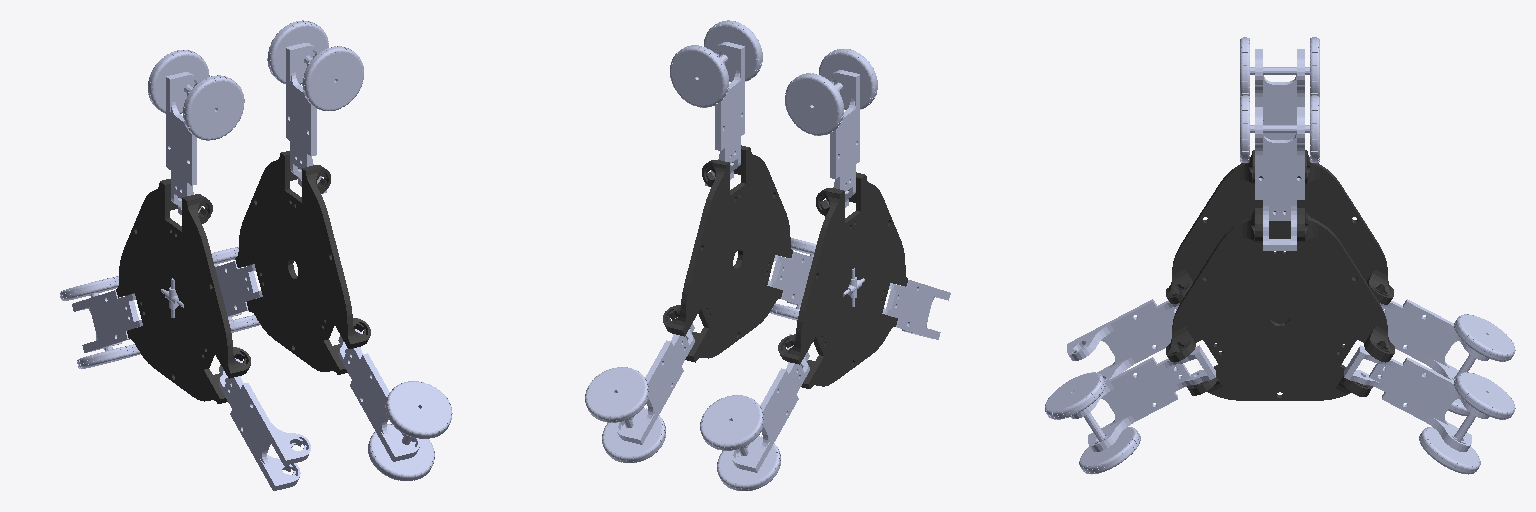
--- Render facts (derived) ---
The picture shows the robot from 3 angles, left to right: view 1: azimuth 30°, elevation 25°; view 2: azimuth 150°, elevation 25°; view 3: azimuth 270°, elevation 25°; orthographic projection.
Model segl_ver2 with 19 links and 18 joints (8 revolute, 6 continuous, 2 prismatic, 2 fixed), rooted at base_link, posed every joint at zero.
Links seen in each view (by area): view 1: base2, base_link, w6, w3, w4, sus1, sus4, sus6, sus3, sus2, sus5, w2 (+1 smaller); view 2: base2, base_link, w6, w3, w2, w5, sus2, sus5, sus6, sus3, sus1, sus4 (+1 smaller); view 3: base2, base_link, sus4, sus5, sus6, sus1, sus2, w5, w4, sus3, w2, w6 (+1 smaller).
Link boxes in pixels (left/top/right/bottom): base2: left=235, top=151, right=370, bottom=374; base_link: left=116, top=179, right=250, bottom=403; w6: left=267, top=20, right=363, bottom=110; w3: left=148, top=50, right=244, bottom=140; w4: left=368, top=381, right=452, bottom=480; sus1: left=219, top=347, right=310, bottom=490; sus4: left=338, top=318, right=419, bottom=461; sus6: left=286, top=43, right=326, bottom=193; sus3: left=166, top=72, right=201, bottom=214; sus2: left=72, top=290, right=142, bottom=352; sus5: left=215, top=261, right=262, bottom=316; w2: left=60, top=276, right=140, bottom=368; base2: left=663, top=145, right=792, bottom=362; base_link: left=778, top=172, right=907, bottom=388; w6: left=670, top=20, right=762, bottom=107; w3: left=785, top=49, right=877, bottom=135; w2: left=700, top=395, right=780, bottom=490; w5: left=585, top=367, right=665, bottom=462; sus2: left=731, top=334, right=809, bottom=472; sus5: left=616, top=317, right=694, bottom=444; sus6: left=705, top=42, right=744, bottom=186; sus3: left=820, top=70, right=859, bottom=213; sus1: left=882, top=280, right=950, bottom=339; sus4: left=767, top=251, right=812, bottom=305; base2: left=1166, top=208, right=1394, bottom=400; base_link: left=1166, top=150, right=1393, bottom=323; sus4: left=1071, top=345, right=1215, bottom=451; sus5: left=1344, top=345, right=1488, bottom=451; sus6: left=1255, top=107, right=1304, bottom=250; sus1: left=1067, top=299, right=1179, bottom=380; sus2: left=1380, top=299, right=1488, bottom=380; w5: left=1419, top=372, right=1515, bottom=474; w4: left=1045, top=372, right=1140, bottom=474; sus3: left=1255, top=49, right=1304, bottom=139; w2: left=1423, top=314, right=1515, bottom=415; w6: left=1240, top=95, right=1319, bottom=162.
Size in the robot's own frame: 0.097 by 0.2231 by 0.1936 metres.
Meshes: 19 distinct files referenced, 14 mesh visuals loaded (14 binary STL); not drawn: 5 (reference not matched to a file when rendering).

URDF robot description (segl_ver2):
<?xml version="1.0" encoding="utf-8"?>
<!-- This URDF was automatically created by SolidWorks to URDF Exporter! Originally created by Stephen Brawner ([email redacted]) 
     Commit Version: 1.6.0-1-g15f4949  Build Version: 1.6.7594.29634
     For more information, please see http://wiki.ros.org/sw_urdf_exporter -->
<robot
  name="segl_ver2">
  <link
    name="base_link">
    <inertial>
      <origin
        xyz="0.0107631885751334 -0.196706606649359 0.125751388465178"
        rpy="0 0 0" />
      <mass
        value="0.0292481653022373" />
      <inertia
        ixx="3.88747734808684E-05"
        ixy="-3.06596509862478E-09"
        ixz="-5.9800656489327E-08"
        iyy="1.98637946417116E-05"
        iyz="-7.6462751095904E-10"
        izz="1.93056895699406E-05" />
    </inertial>
    <visual>
      <origin
        xyz="0 0 0"
        rpy="0 0 0" />
      <geometry>
        <mesh
          filename="package://segl_ver2/meshes/base_link.STL" />
      </geometry>
      <material
        name="">
        <color
          rgba="0.298039215686275 0.298039215686275 0.298039215686275 1" />
      </material>
    </visual>
    <collision>
      <origin
        xyz="0 0 0"
        rpy="0 0 0" />
      <geometry>
        <mesh
          filename="package://segl_ver2/meshes/base_link.STL" />
      </geometry>
    </collision>
  </link>
  <link
    name="sus1">
    <inertial>
      <origin
        xyz="0.0245281392565478 -0.00579743460623024 -0.00799999809102761"
        rpy="0 0 0" />
      <mass
        value="0.00484464615393237" />
      <inertia
        ixx="3.44953495510738E-07"
        ixy="5.10613042897034E-08"
        ixz="1.27802151276123E-14"
        iyy="2.31225028349891E-06"
        iyz="2.19478513827084E-14"
        izz="2.08649864683354E-06" />
    </inertial>
    <visual>
      <origin
        xyz="0 0 0"
        rpy="0 0 0" />
      <geometry>
        <mesh
          filename="package://segl_ver2/meshes/sus1.STL" />
      </geometry>
      <material
        name="">
        <color
          rgba="0.792156862745098 0.819607843137255 0.933333333333333 1" />
      </material>
    </visual>
    <collision>
      <origin
        xyz="0 0 0"
        rpy="0 0 0" />
      <geometry>
        <mesh
          filename="package://segl_ver2/meshes/sus1.STL" />
      </geometry>
    </collision>
  </link>
  <joint
    name="sus1r"
    type="revolute">
    <origin
      xyz="0.0209492573018266 -0.281484925581457 0.067161403096656"
      rpy="3.14159265358979 -0.523598775598299 1.57079632679491" />
    <parent
      link="base_link" />
    <child
      link="sus1" />
    <axis
      xyz="0 0 -1" />
    <limit
      lower="0"
      upper="0"
      effort="0"
      velocity="0" />
  </joint>
  <link
    name="w1">
    <inertial>
      <origin
        xyz="5.22216991871716E-12 0.0109999999662131 1.83967563405218E-11"
        rpy="0 0 0" />
      <mass
        value="0.00802564595067572" />
      <inertia
        ixx="2.63042675367951E-06"
        ixy="-7.55275615083696E-16"
        ixz="6.57318531134782E-16"
        iyy="9.68771865572928E-07"
        iyz="-1.40328686878471E-15"
        izz="2.63042674934207E-06" />
    </inertial>
    <visual>
      <origin
        xyz="0 0 0"
        rpy="0 0 0" />
      <geometry>
        <mesh
          filename="package://segl_ver2/meshes/w1.STL" />
      </geometry>
      <material
        name="">
        <color
          rgba="0.792156862745098 0.819607843137255 0.933333333333333 1" />
      </material>
    </visual>
    <collision>
      <origin
        xyz="0 0 0"
        rpy="0 0 0" />
      <geometry>
        <mesh
          filename="package://segl_ver2/meshes/w1.STL" />
      </geometry>
    </collision>
  </link>
  <joint
    name="w1c"
    type="continuous">
    <origin
      xyz="0 0 -0.019"
      rpy="1.5707963267949 0 -1.09932300692303" />
    <parent
      link="sus1" />
    <child
      link="w1" />
    <axis
      xyz="0 1 0" />
  </joint>
  <link
    name="sus2">
    <inertial>
      <origin
        xyz="0.0245281388862843 -0.00579743458596982 -0.00799999408218524"
        rpy="0 0 0" />
      <mass
        value="0.00484464622012381" />
      <inertia
        ixx="3.44953504540437E-07"
        ixy="5.10613036903035E-08"
        ixz="1.55592500717671E-13"
        iyy="2.31225031988856E-06"
        iyz="4.30376878804778E-14"
        izz="2.0864986737292E-06" />
    </inertial>
    <visual>
      <origin
        xyz="0 0 0"
        rpy="0 0 0" />
      <geometry>
        <mesh
          filename="package://segl_ver2/meshes/sus2.STL" />
      </geometry>
      <material
        name="">
        <color
          rgba="0.792156862745098 0.819607843137255 0.933333333333333 1" />
      </material>
    </visual>
    <collision>
      <origin
        xyz="0 0 0"
        rpy="0 0 0" />
      <geometry>
        <mesh
          filename="package://segl_ver2/meshes/sus2.STL" />
      </geometry>
    </collision>
  </link>
  <joint
    name="sus2r"
    type="revolute">
    <origin
      xyz="0.0209492573018259 -0.103962409966498 0.0810178095573729"
      rpy="0 -0.523598775598294 -1.5707963267949" />
    <parent
      link="base_link" />
    <child
      link="sus2" />
    <axis
      xyz="0 0 -1" />
    <limit
      lower="0"
      upper="0"
      effort="0"
      velocity="0" />
  </joint>
  <link
    name="w2">
    <inertial>
      <origin
        xyz="5.21314935664208E-12 0.0109999999660882 1.84374460143744E-11"
        rpy="0 0 0" />
      <mass
        value="0.00802564595064063" />
      <inertia
        ixx="2.63042675366783E-06"
        ixy="-7.55284416285413E-16"
        ixz="6.57278244130228E-16"
        iyy="9.6877186556785E-07"
        iyz="-1.39968944044838E-15"
        izz="2.63042674933548E-06" />
    </inertial>
    <visual>
      <origin
        xyz="0 0 0"
        rpy="0 0 0" />
      <geometry>
        <mesh
          filename="package://segl_ver2/meshes/w2.STL" />
      </geometry>
      <material
        name="">
        <color
          rgba="0.792156862745098 0.819607843137255 0.933333333333333 1" />
      </material>
    </visual>
    <collision>
      <origin
        xyz="0 0 0"
        rpy="0 0 0" />
      <geometry>
        <mesh
          filename="package://segl_ver2/meshes/w2.STL" />
      </geometry>
    </collision>
  </link>
  <joint
    name="w2c"
    type="continuous">
    <origin
      xyz="0 0 -0.019"
      rpy="1.5708 0 -1.0993" />
    <parent
      link="sus2" />
    <child
      link="w2" />
    <axis
      xyz="0 1 0" />
  </joint>
  <link
    name="sus3">
    <inertial>
      <origin
        xyz="0.0245281427339185 -0.00579743476204341 -0.00799999583699243"
        rpy="0 0 0" />
      <mass
        value="0.00484464531506038" />
      <inertia
        ixx="3.44953306450567E-07"
        ixy="5.10613156648366E-08"
        ixz="7.85719483021613E-14"
        iyy="2.31224993634185E-06"
        iyz="3.48701370311509E-14"
        izz="2.08649849059194E-06" />
    </inertial>
    <visual>
      <origin
        xyz="0 0 0"
        rpy="0 0 0" />
      <geometry>
        <mesh
          filename="package://segl_ver2/meshes/sus3.STL" />
      </geometry>
      <material
        name="">
        <color
          rgba="0.792156862745098 0.819607843137255 0.933333333333333 1" />
      </material>
    </visual>
    <collision>
      <origin
        xyz="0 0 0"
        rpy="0 0 0" />
      <geometry>
        <mesh
          filename="package://segl_ver2/meshes/sus3.STL" />
      </geometry>
    </collision>
  </link>
  <joint
    name="sus3r"
    type="revolute">
    <origin
      xyz="0.0209492573018252 -0.20472366777412 0.227828614593289"
      rpy="1.5707963267949 1.5707963267949 0" />
    <parent
      link="base_link" />
    <child
      link="sus3" />
    <axis
      xyz="0 0 1" />
    <limit
      lower="0"
      upper="0"
      effort="0"
      velocity="0" />
  </joint>
  <link
    name="w3">
    <inertial>
      <origin
        xyz="5.21756249316496E-12 0.0109999999661513 1.84169901551456E-11"
        rpy="0 0 0" />
      <mass
        value="0.00802564595065764" />
      <inertia
        ixx="2.63042675367367E-06"
        ixy="-7.55267407101903E-16"
        ixz="6.57297037673746E-16"
        iyy="9.6877186557038E-07"
        iyz="-1.40145231324626E-15"
        izz="2.63042674933879E-06" />
    </inertial>
    <visual>
      <origin
        xyz="0 0 0"
        rpy="0 0 0" />
      <geometry>
        <mesh
          filename="package://segl_ver2/meshes/w3.STL" />
      </geometry>
      <material
        name="">
        <color
          rgba="0.792156862745098 0.819607843137255 0.933333333333333 1" />
      </material>
    </visual>
    <collision>
      <origin
        xyz="0 0 0"
        rpy="0 0 0" />
      <geometry>
        <mesh
          filename="package://segl_ver2/meshes/w3.STL" />
      </geometry>
    </collision>
  </link>
  <joint
    name="w3c"
    type="continuous">
    <origin
      xyz="0 0 -0.019"
      rpy="1.5707963267949 0 -1.09932300692303" />
    <parent
      link="sus3" />
    <child
      link="w3" />
    <axis
      xyz="0 1 0" />
  </joint>
  <link
    name="con1">
    <inertial>
      <origin
        xyz="0.0150000000000001 -8.32667268468867E-17 -1.52655665885959E-16"
        rpy="0 0 0" />
      <mass
        value="0.00235619449019234" />
      <inertia
        ixx="2.94524311274043E-08"
        ixy="4.86347831101101E-22"
        ixz="1.21907854063494E-21"
        iyy="1.91440802328128E-07"
        iyz="0"
        izz="1.91440802328128E-07" />
    </inertial>
    <visual>
      <origin
        xyz="0 0 0"
        rpy="0 0 0" />
      <geometry>
        <mesh
          filename="package://segl_ver2/meshes/con1.STL" />
      </geometry>
      <material
        name="">
        <color
          rgba="0.792156862745098 0.819607843137255 0.933333333333333 1" />
      </material>
    </visual>
    <collision>
      <origin
        xyz="0 0 0"
        rpy="0 0 0" />
      <geometry>
        <mesh
          filename="package://segl_ver2/meshes/con1.STL" />
      </geometry>
    </collision>
  </link>
  <joint
    name="con1f"
    type="fixed">
    <origin
      xyz="0.0116192573018258 -0.196723667774025 0.125335942415772"
      rpy="3.05723846361397 0 0" />
    <parent
      link="base_link" />
    <child
      link="con1" />
    <axis
      xyz="0 0 0" />
  </joint>
  <link
    name="con2">
    <inertial>
      <origin
        xyz="5.55111512312578E-17 0.0511300493614309 -1.66533453693773E-16"
        rpy="0 0 0" />
      <mass
        value="0.00279336263712055" />
      <inertia
        ixx="3.47148573143988E-07"
        ixy="-3.22117119311169E-22"
        ixz="6.2659192053309E-24"
        iyy="3.99316347503688E-08"
        iyz="1.06362574145513E-21"
        izz="3.49420107139763E-07" />
    </inertial>
    <visual>
      <origin
        xyz="0 0 0"
        rpy="0 0 0" />
      <geometry>
        <mesh
          filename="package://segl_ver2/meshes/con2.STL" />
      </geometry>
      <material
        name="">
        <color
          rgba="0.792156862745098 0.819607843137255 0.933333333333333 1" />
      </material>
    </visual>
    <collision>
      <origin
        xyz="0 0 0"
        rpy="0 0 0" />
      <geometry>
        <mesh
          filename="package://segl_ver2/meshes/con2.STL" />
      </geometry>
    </collision>
  </link>
  <joint
    name="con2p"
    type="prismatic">
    <origin
      xyz="-0.003 0 0"
      rpy="0 -1.4864 -1.5708" />
    <parent
      link="con1" />
    <child
      link="con2" />
    <axis
      xyz="0 -1 0" />
    <limit
      lower="0"
      upper="0"
      effort="0"
      velocity="0" />
  </joint>
  <link
    name="uni">
    <inertial>
      <origin
        xyz="2.22044604925031E-16 1.92840421409102E-09 1.92840418633544E-09"
        rpy="0 0 0" />
      <mass
        value="0.000271492148155946" />
      <inertia
        ixx="5.93557661395575E-09"
        ixy="4.47220671760484E-15"
        ixz="-4.47220671817201E-15"
        iyy="3.20070578284846E-09"
        iyz="1.00860378857642E-21"
        izz="3.20070578284845E-09" />
    </inertial>
    <visual>
      <origin
        xyz="0 0 0"
        rpy="0 0 0" />
      <geometry>
        <mesh
          filename="package://segl_ver2/meshes/uni.STL" />
      </geometry>
      <material
        name="">
        <color
          rgba="0.792156862745098 0.819607843137255 0.933333333333333 1" />
      </material>
    </visual>
    <collision>
      <origin
        xyz="0 0 0"
        rpy="0 0 0" />
      <geometry>
        <mesh
          filename="package://segl_ver2/meshes/uni.STL" />
      </geometry>
    </collision>
  </link>
  <joint
    name="unir"
    type="revolute">
    <origin
      xyz="0 0 0"
      rpy="0 0 1.5708" />
    <parent
      link="con2" />
    <child
      link="uni" />
    <axis
      xyz="0 -1 0" />
    <limit
      lower="0"
      upper="0"
      effort="0"
      velocity="0" />
  </joint>
  <link
    name="con3">
    <inertial>
      <origin
        xyz="0.0168699506385675 -4.71844785465692E-16 1.66533453693773E-16"
        rpy="0 0 0" />
      <mass
        value="0.00279336263712055" />
      <inertia
        ixx="3.99316347503688E-08"
        ixy="-2.21473370213145E-21"
        ixz="9.90677928511773E-22"
        iyy="3.49420107139762E-07"
        iyz="2.19567825042962E-23"
        izz="3.47148573143987E-07" />
    </inertial>
    <visual>
      <origin
        xyz="0 0 0"
        rpy="0 0 0" />
      <geometry>
        <mesh
          filename="package://segl_ver2/meshes/con3.STL" />
      </geometry>
      <material
        name="">
        <color
          rgba="0.792156862745098 0.819607843137255 0.933333333333333 1" />
      </material>
    </visual>
    <collision>
      <origin
        xyz="0 0 0"
        rpy="0 0 0" />
      <geometry>
        <mesh
          filename="package://segl_ver2/meshes/con3.STL" />
      </geometry>
    </collision>
  </link>
  <joint
    name="con3r"
    type="revolute">
    <origin
      xyz="0 0 0"
      rpy="0 0 0" />
    <parent
      link="uni" />
    <child
      link="con3" />
    <axis
      xyz="0 0 -1" />
    <limit
      lower="0"
      upper="0"
      effort="0"
      velocity="0" />
  </joint>
  <link
    name="con4">
    <inertial>
      <origin
        xyz="-0.0150000000000001 -7.49400541621981E-16 -3.33066907387547E-16"
        rpy="0 0 0" />
      <mass
        value="0.00235619449019234" />
      <inertia
        ixx="2.94524311274043E-08"
        ixy="-1.15743391516541E-21"
        ixz="-6.82310798372852E-22"
        iyy="1.91440802328128E-07"
        iyz="6.61744490042422E-24"
        izz="1.91440802328128E-07" />
    </inertial>
    <visual>
      <origin
        xyz="0 0 0"
        rpy="0 0 0" />
      <geometry>
        <mesh
          filename="package://segl_ver2/meshes/con4.STL" />
      </geometry>
      <material
        name="">
        <color
          rgba="0.792156862745098 0.819607843137255 0.933333333333333 1" />
      </material>
    </visual>
    <collision>
      <origin
        xyz="0 0 0"
        rpy="0 0 0" />
      <geometry>
        <mesh
          filename="package://segl_ver2/meshes/con4.STL" />
      </geometry>
    </collision>
  </link>
  <joint
    name="con4p"
    type="prismatic">
    <origin
      xyz="0.0650000000000009 0 0"
      rpy="-0.98269663008103 0 0" />
    <parent
      link="con3" />
    <child
      link="con4" />
    <axis
      xyz="-1 0 0" />
    <limit
      lower="0"
      upper="0"
      effort="0"
      velocity="0" />
  </joint>
  <link
    name="base2">
    <inertial>
      <origin
        xyz="-1.70019768646057E-05 0.00214393347748168 0.000415436461369545"
        rpy="0 0 0" />
      <mass
        value="0.0292481701284546" />
      <inertia
        ixx="1.98637964228682E-05"
        ixy="3.05143639764163E-09"
        ixz="8.03293928394738E-10"
        iyy="3.88747924136026E-05"
        iyz="-5.98005959044393E-08"
        izz="1.93057075699702E-05" />
    </inertial>
    <visual>
      <origin
        xyz="0 0 0"
        rpy="0 0 0" />
      <geometry>
        <mesh
          filename="package://segl_ver2/meshes/base2.STL" />
      </geometry>
      <material
        name="">
        <color
          rgba="0.298039215686275 0.298039215686275 0.298039215686275 1" />
      </material>
    </visual>
    <collision>
      <origin
        xyz="0 0 0"
        rpy="0 0 0" />
      <geometry>
        <mesh
          filename="package://segl_ver2/meshes/base2.STL" />
      </geometry>
    </collision>
  </link>
  <joint
    name="base2f"
    type="fixed">
    <origin
      xyz="0 0 0"
      rpy="3.14159265358979 -0.459097854482748 1.5707963267949" />
    <parent
      link="con4" />
    <child
      link="base2" />
    <axis
      xyz="0 0 0" />
  </joint>
  <link
    name="sus4">
    <inertial>
      <origin
        xyz="0.0245281392565479 -0.00579743460623028 -0.00799999809102761"
        rpy="0 0 0" />
      <mass
        value="0.00484464615393236" />
      <inertia
        ixx="3.44953495510737E-07"
        ixy="5.10613042897036E-08"
        ixz="1.27802165040409E-14"
        iyy="2.31225028349891E-06"
        iyz="2.1947851238779E-14"
        izz="2.08649864683353E-06" />
    </inertial>
    <visual>
      <origin
        xyz="0 0 0"
        rpy="0 0 0" />
      <geometry>
        <mesh
          filename="package://segl_ver2/meshes/sus4.STL" />
      </geometry>
      <material
        name="">
        <color
          rgba="0.792156862745098 0.819607843137255 0.933333333333333 1" />
      </material>
    </visual>
    <collision>
      <origin
        xyz="0 0 0"
        rpy="0 0 0" />
      <geometry>
        <mesh
          filename="package://segl_ver2/meshes/sus4.STL" />
      </geometry>
    </collision>
  </link>
  <joint
    name="sus4r"
    type="revolute">
    <origin
      xyz="-0.092761257807526 0.0123300000000007 -0.0443181328584011"
      rpy="0 -0.523598775598312 0" />
    <parent
      link="base2" />
    <child
      link="sus4" />
    <axis
      xyz="0 0 -1" />
    <limit
      lower="0"
      upper="0"
      effort="0"
      velocity="0" />
  </joint>
  <link
    name="w4">
    <inertial>
      <origin
        xyz="5.2220727742025E-12 0.010999999966213 1.83967285849462E-11"
        rpy="0 0 0" />
      <mass
        value="0.00802564595067573" />
      <inertia
        ixx="2.63042675367951E-06"
        ixy="-7.55277534142717E-16"
        ixz="6.57317789980953E-16"
        iyy="9.6877186557293E-07"
        iyz="-1.40328700113361E-15"
        izz="2.63042674934208E-06" />
    </inertial>
    <visual>
      <origin
        xyz="0 0 0"
        rpy="0 0 0" />
      <geometry>
        <mesh
          filename="package://segl_ver2/meshes/w4.STL" />
      </geometry>
      <material
        name="">
        <color
          rgba="0.792156862745098 0.819607843137255 0.933333333333333 1" />
      </material>
    </visual>
    <collision>
      <origin
        xyz="0 0 0"
        rpy="0 0 0" />
      <geometry>
        <mesh
          filename="package://segl_ver2/meshes/w4.STL" />
      </geometry>
    </collision>
  </link>
  <joint
    name="w4c"
    type="continuous">
    <origin
      xyz="0 0 -0.019"
      rpy="1.57079632679489 0 -1.09932300692303" />
    <parent
      link="sus4" />
    <child
      link="w4" />
    <axis
      xyz="0 1 0" />
  </joint>
  <link
    name="sus5">
    <inertial>
      <origin
        xyz="0.0245281388862843 -0.00579743458596979 -0.00799999408218524"
        rpy="0 0 0" />
      <mass
        value="0.00484464622012381" />
      <inertia
        ixx="3.44953504540437E-07"
        ixy="5.10613036903036E-08"
        ixz="1.55592501577939E-13"
        iyy="2.31225031988856E-06"
        iyz="4.30376880641119E-14"
        izz="2.0864986737292E-06" />
    </inertial>
    <visual>
      <origin
        xyz="0 0 0"
        rpy="0 0 0" />
      <geometry>
        <mesh
          filename="package://segl_ver2/meshes/sus5.STL" />
      </geometry>
      <material
        name="">
        <color
          rgba="0.792156862745098 0.819607843137255 0.933333333333333 1" />
      </material>
    </visual>
    <collision>
      <origin
        xyz="0 0 0"
        rpy="0 0 0" />
      <geometry>
        <mesh
          filename="package://segl_ver2/meshes/sus5.STL" />
      </geometry>
    </collision>
  </link>
  <joint
    name="sus5r"
    type="revolute">
    <origin
      xyz="0.00800000000009428 0.01233 0.102492672177516"
      rpy="0 1.5707963267949 0" />
    <parent
      link="base2" />
    <child
      link="sus5" />
    <axis
      xyz="0 0 -1" />
    <limit
      lower="0"
      upper="0"
      effort="0"
      velocity="0" />
  </joint>
  <link
    name="w5">
    <inertial>
      <origin
        xyz="5.21316323442989E-12 0.0109999999660882 1.84374182587987E-11"
        rpy="0 0 0" />
      <mass
        value="0.00802564595064064" />
      <inertia
        ixx="2.63042675366783E-06"
        ixy="-7.55283569252466E-16"
        ixz="6.57280202893918E-16"
        iyy="9.68771865567853E-07"
        iyz="-1.39969026101155E-15"
        izz="2.63042674933548E-06" />
    </inertial>
    <visual>
      <origin
        xyz="0 0 0"
        rpy="0 0 0" />
      <geometry>
        <mesh
          filename="package://segl_ver2/meshes/w5.STL" />
      </geometry>
      <material
        name="">
        <color
          rgba="0.792156862745098 0.819607843137255 0.933333333333333 1" />
      </material>
    </visual>
    <collision>
      <origin
        xyz="0 0 0"
        rpy="0 0 0" />
      <geometry>
        <mesh
          filename="package://segl_ver2/meshes/w5.STL" />
      </geometry>
    </collision>
  </link>
  <joint
    name="w5c"
    type="continuous">
    <origin
      xyz="0 0 -0.019"
      rpy="1.5707963267949 0 -1.09932300692303" />
    <parent
      link="sus5" />
    <child
      link="w5" />
    <axis
      xyz="0 1 0" />
  </joint>
  <link
    name="sus6">
    <inertial>
      <origin
        xyz="0.0245281427339184 -0.00579743476204339 -0.00799999583699254"
        rpy="0 0 0" />
      <mass
        value="0.00484464531506037" />
      <inertia
        ixx="3.44953306450566E-07"
        ixy="5.10613156648365E-08"
        ixz="7.85719547725441E-14"
        iyy="2.31224993634185E-06"
        iyz="3.48701370078975E-14"
        izz="2.08649849059194E-06" />
    </inertial>
    <visual>
      <origin
        xyz="0 0 0"
        rpy="0 0 0" />
      <geometry>
        <mesh
          filename="package://segl_ver2/meshes/sus6.STL" />
      </geometry>
      <material
        name="">
        <color
          rgba="0.792156862745098 0.819607843137255 0.933333333333333 1" />
      </material>
    </visual>
    <collision>
      <origin
        xyz="0 0 0"
        rpy="0 0 0" />
      <geometry>
        <mesh
          filename="package://segl_ver2/meshes/sus6.STL" />
      </geometry>
    </collision>
  </link>
  <joint
    name="sus6r"
    type="revolute">
    <origin
      xyz="0.0847612578074339 0.0123299999999992 -0.0581745393191151"
      rpy="-3.14159265358979 -0.523598775598282 3.14159265358978" />
    <parent
      link="base2" />
    <child
      link="sus6" />
    <axis
      xyz="0 0 1" />
    <limit
      lower="0"
      upper="0"
      effort="0"
      velocity="0" />
  </joint>
  <link
    name="w6">
    <inertial>
      <origin
        xyz="5.21757637095277E-12 0.0109999999661513 1.84169901551456E-11"
        rpy="0 0 0" />
      <mass
        value="0.00802564595065763" />
      <inertia
        ixx="2.63042675367367E-06"
        ixy="-7.55270766374312E-16"
        ixz="6.57296931794627E-16"
        iyy="9.68771865570381E-07"
        iyz="-1.40144992849904E-15"
        izz="2.63042674933879E-06" />
    </inertial>
    <visual>
      <origin
        xyz="0 0 0"
        rpy="0 0 0" />
      <geometry>
        <mesh
          filename="package://segl_ver2/meshes/w6.STL" />
      </geometry>
      <material
        name="">
        <color
          rgba="0.792156862745098 0.819607843137255 0.933333333333333 1" />
      </material>
    </visual>
    <collision>
      <origin
        xyz="0 0 0"
        rpy="0 0 0" />
      <geometry>
        <mesh
          filename="package://segl_ver2/meshes/w6.STL" />
      </geometry>
    </collision>
  </link>
  <joint
    name="w6c"
    type="continuous">
    <origin
      xyz="0 0 -0.019"
      rpy="1.5707963267949 0 -1.09932300692303" />
    <parent
      link="sus6" />
    <child
      link="w6" />
    <axis
      xyz="0 1 0" />
  </joint>
</robot>
